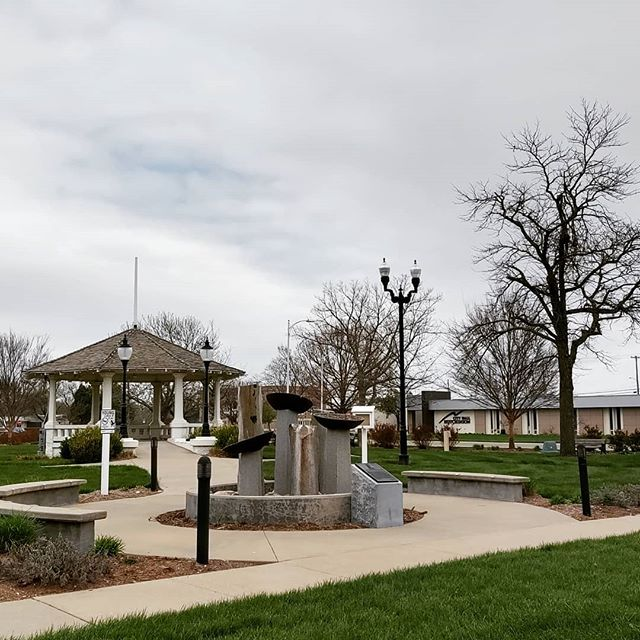building: (49, 321, 243, 461)
sky: (1, 1, 616, 379)
tree: (474, 119, 640, 456), (286, 279, 433, 432), (462, 301, 561, 454)
